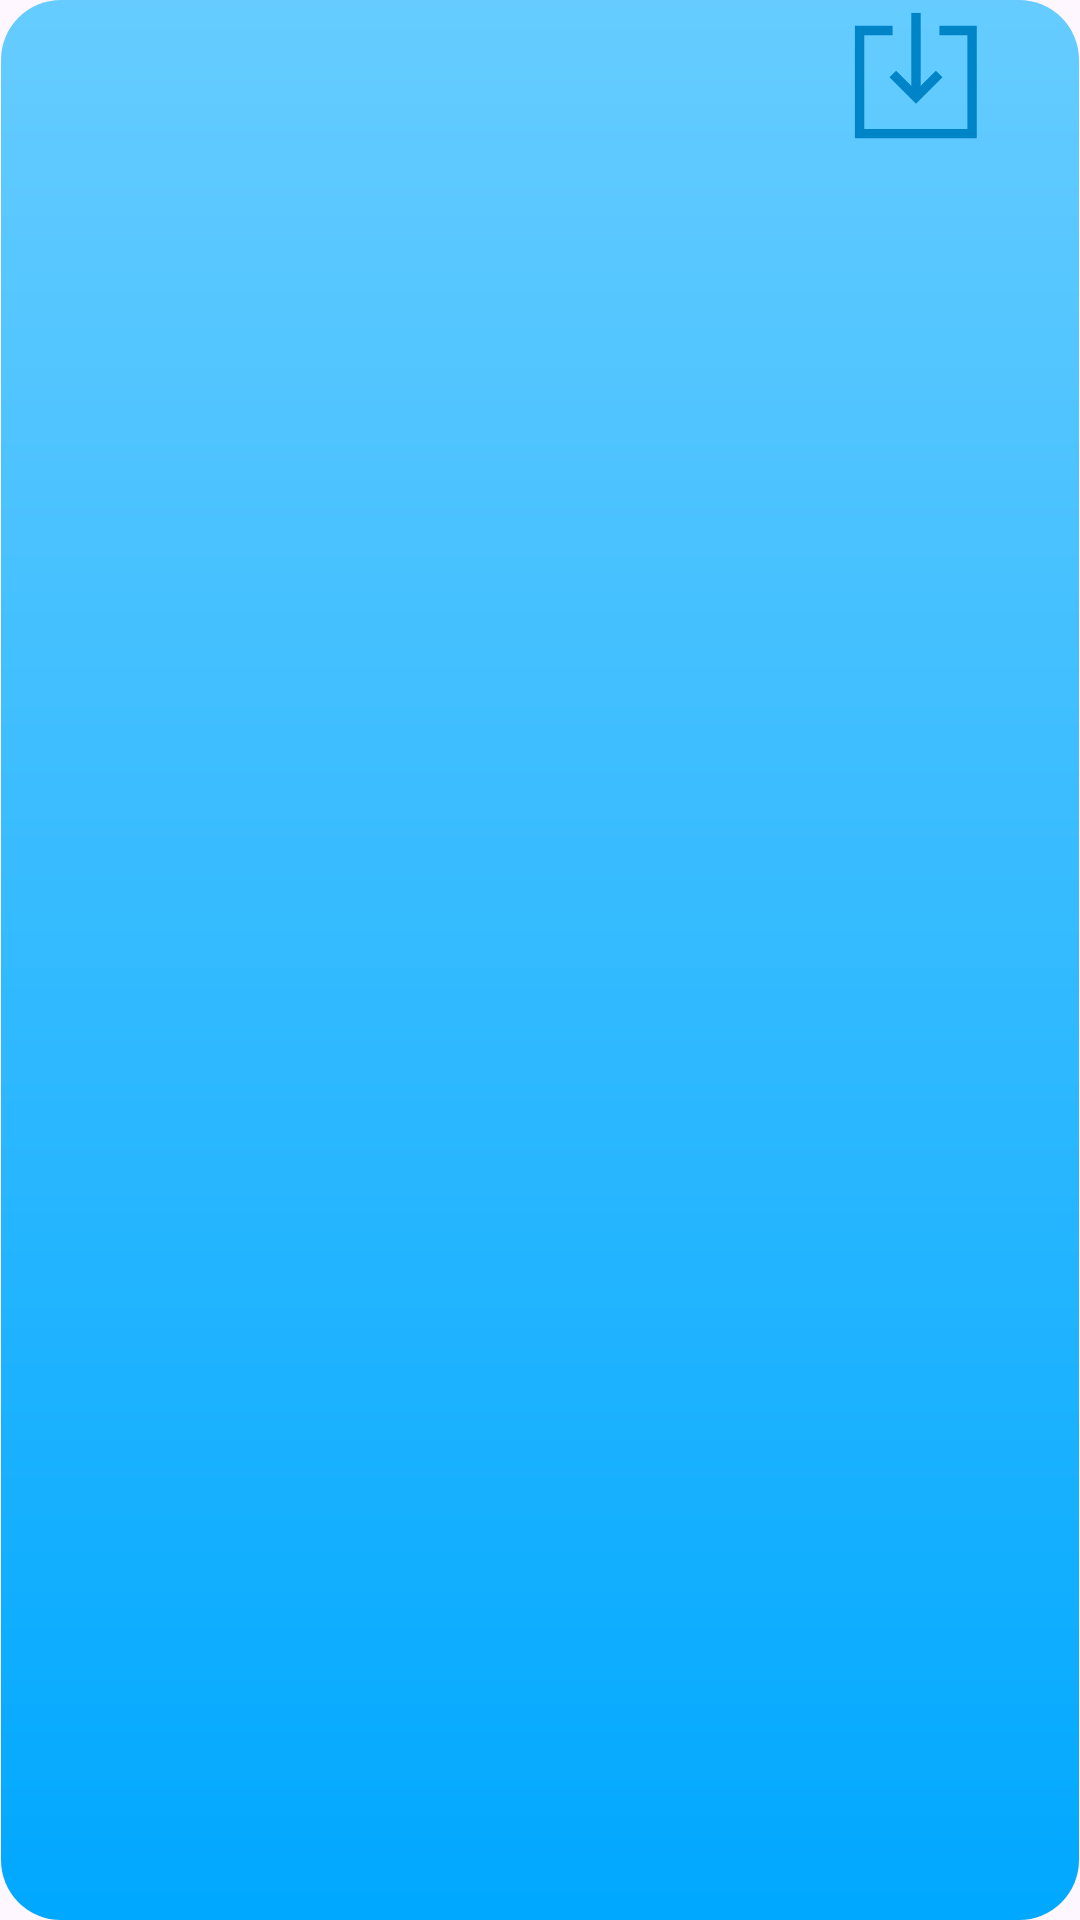

Where to tap for icons on this 1080 × 1920 app screen, as [x,y]:
down: [916,76]
